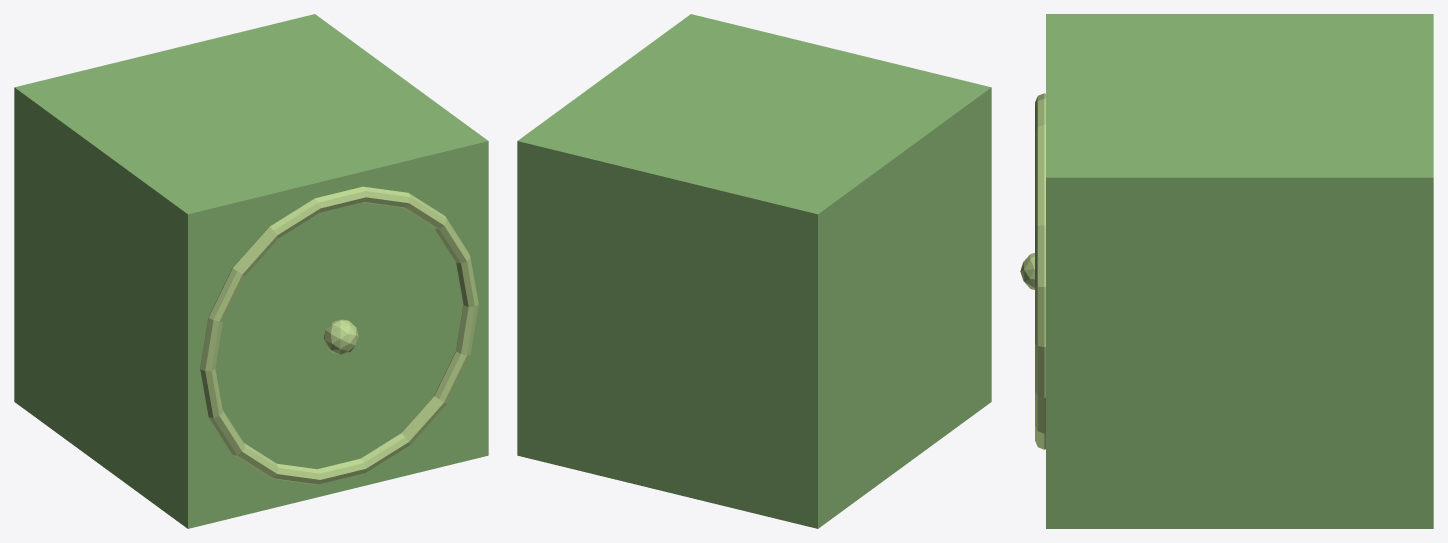
File: seuche.glb
The picture shows the model from 3 angles, left to right: view 1: azimuth 30°, elevation 25°; view 2: azimuth 150°, elevation 25°; view 3: azimuth 270°, elevation 25°; orthographic projection. The views are drawn at different scales.
Visible parts, largest first — view 1: world; view 2: world; view 3: world.
Boxes of the visible parts, <box> form: world: <box>14,14,488,528</box>; world: <box>517,14,991,528</box>; world: <box>1020,14,1433,528</box>.
Bounding box in the file's own units: 1.05 × 1.05 × 1.12.
